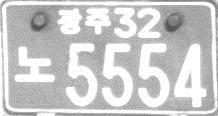2: (137, 5, 160, 40)
3: (112, 6, 138, 39)
4: (172, 40, 209, 108)
5: (136, 41, 171, 110), (64, 40, 98, 110), (101, 42, 134, 106)
광주_O: (56, 6, 112, 36)
노: (13, 44, 55, 85)
